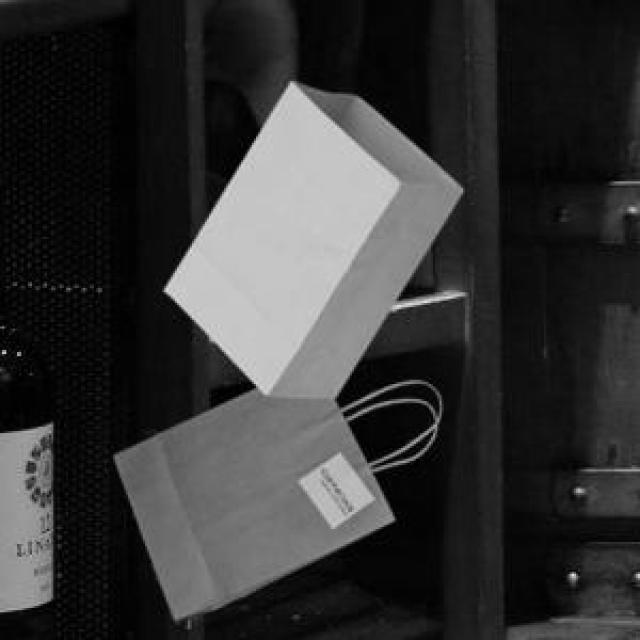paper: (160, 77, 459, 395), (111, 382, 414, 617)
